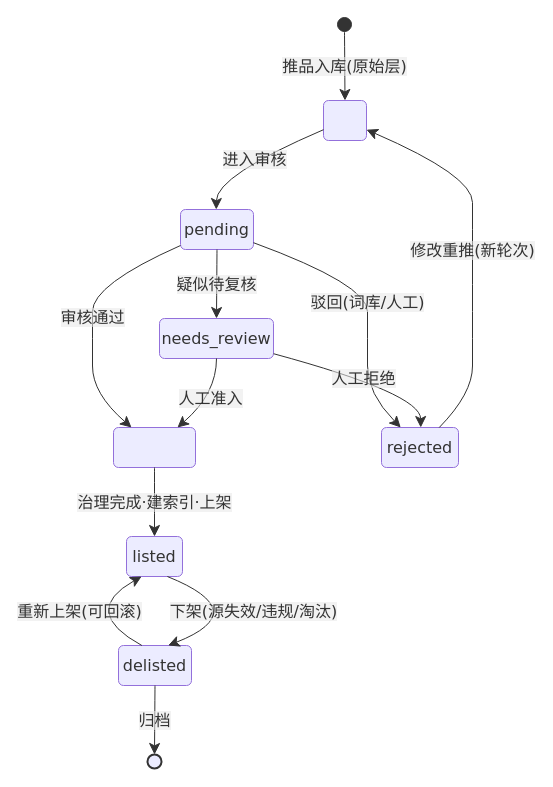
Image size: 553x787. Some labels were removed from this diagram. The shapes that lost their labels are listed below. From the top down, each one's box as (x1, y1, x2, y2) in pixels, then its label:
(322, 100, 366, 140): raw
(112, 426, 196, 468): governed
